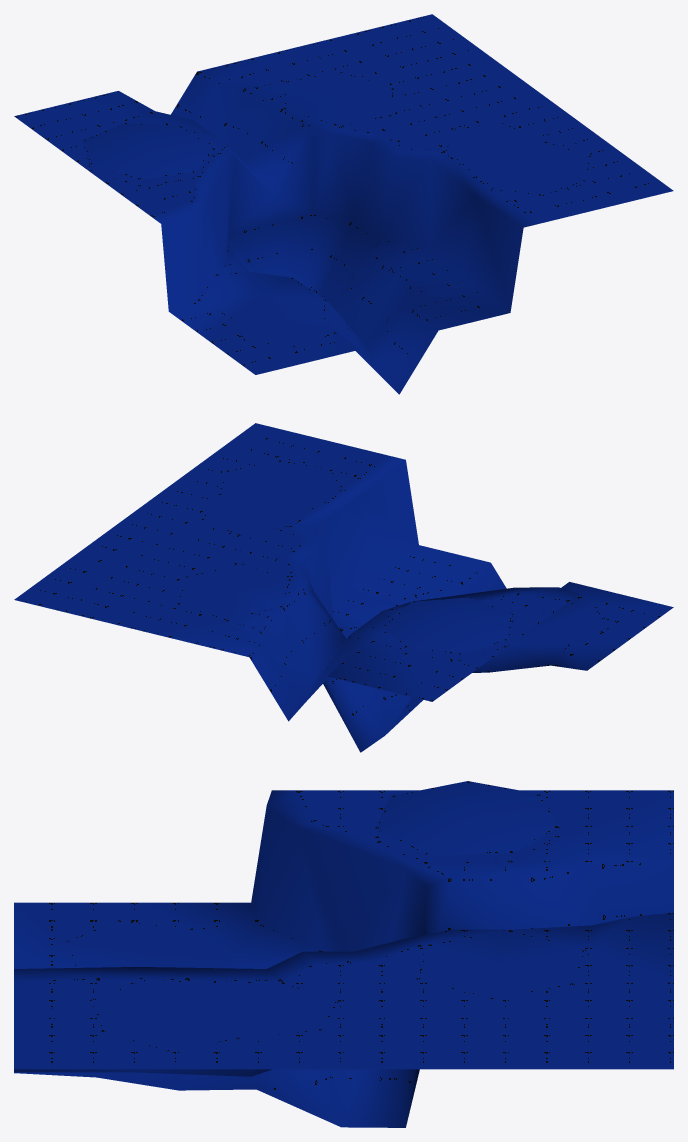
File: GRD_S_C5_R1_1.fbx
The picture shows the model from 3 angles, top to bottom: view 1: azimuth 30°, elevation 25°; view 2: azimuth 150°, elevation 25°; view 3: azimuth 270°, elevation 25°; orthographic projection. The views are drawn at different scales.
Visible parts, largest first — view 1: material_00022000, material_00032000, material_C0042000, material_C0052000, material_C0012000, material_C0062000; view 2: material_00022000, material_C0052000, material_00032000, material_C0042000, material_C0012000, material_C0062000; view 3: material_00022000, material_C0052000, material_00032000, material_C0042000, material_C0012000, material_C0062000.
Part boxes in pixels (x1=…): material_00022000: x1=14, y1=14, x2=673, y2=374; material_00032000: x1=150, y1=124, x2=542, y2=312; material_C0042000: x1=171, y1=71, x2=438, y2=394; material_C0052000: x1=198, y1=71, x2=590, y2=346; material_C0012000: x1=82, y1=123, x2=215, y2=179; material_C0062000: x1=82, y1=147, x2=215, y2=186; material_00022000: x1=14, y1=423, x2=673, y2=701; material_C0052000: x1=177, y1=460, x2=609, y2=672; material_00032000: x1=285, y1=455, x2=579, y2=619; material_C0042000: x1=249, y1=563, x2=506, y2=752; material_C0012000: x1=383, y1=597, x2=512, y2=654; material_C0062000: x1=383, y1=620, x2=513, y2=661; material_00022000: x1=14, y1=790, x2=673, y2=1076; material_C0052000: x1=65, y1=920, x2=586, y2=1051; material_00032000: x1=14, y1=790, x2=451, y2=981; material_C0042000: x1=14, y1=860, x2=673, y2=1127; material_C0012000: x1=375, y1=781, x2=560, y2=854; material_C0062000: x1=375, y1=829, x2=560, y2=864.
Size of the model in its own units: 12800 by 5200 by 12800.
